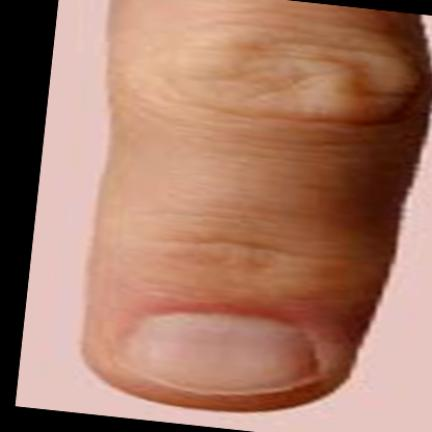Nail: (118, 314, 320, 395)
